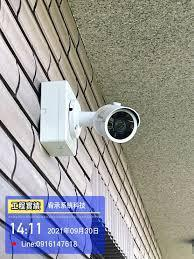Monitor: (34, 60, 157, 175)
